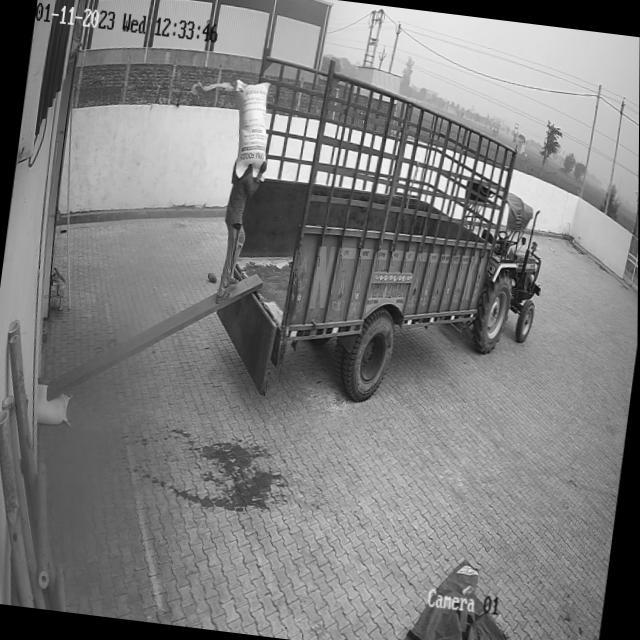sack: (224, 78, 274, 180), (33, 382, 71, 428)
